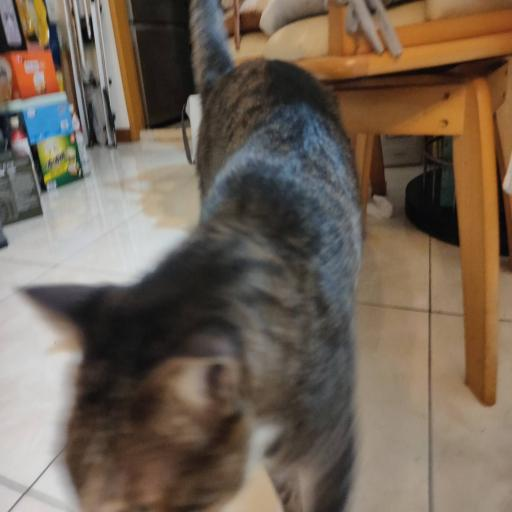cat: (68, 53, 380, 512)
